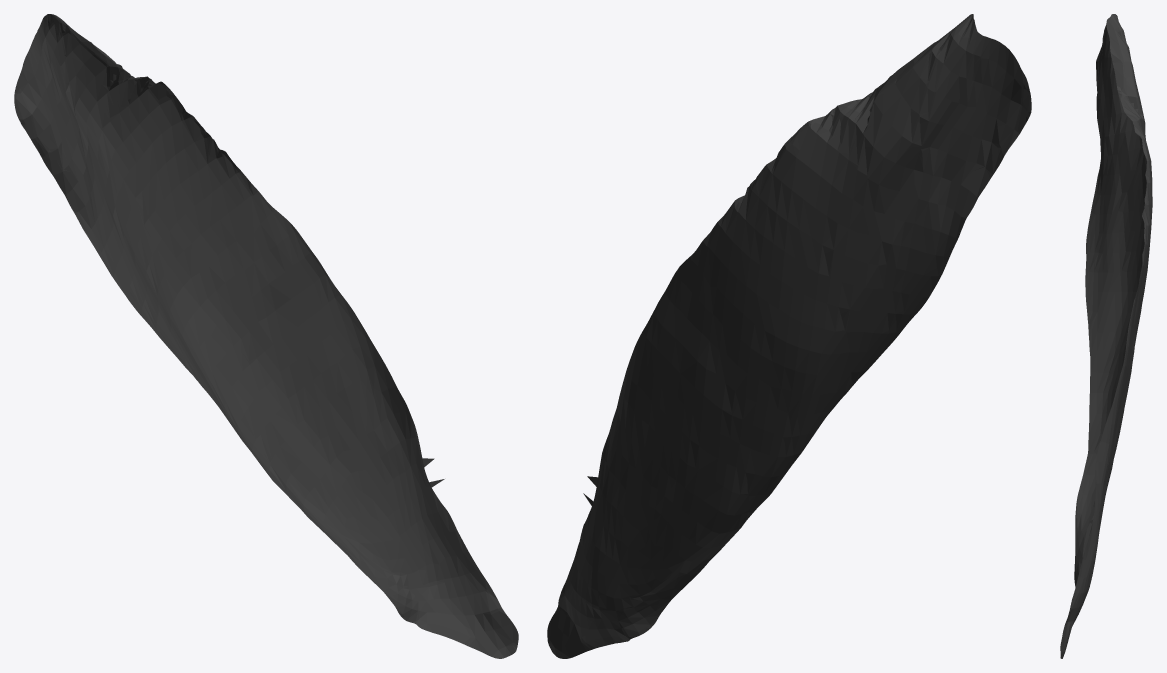
The model's file is Triceps_medial.glb.
The picture shows the model from 3 angles, left to right: view 1: azimuth 30°, elevation 25°; view 2: azimuth 150°, elevation 25°; view 3: azimuth 270°, elevation 25°; orthographic projection. The views are drawn at different scales.
Parts seen in each view (by area): view 1: Triceps_medial; view 2: Triceps_medial; view 3: Triceps_medial.
Part boxes in pixels (x1,y1,x2,y2): Triceps_medial: (14, 14, 518, 658); Triceps_medial: (547, 14, 1031, 658); Triceps_medial: (1060, 14, 1152, 658).
Size of the model in its own units: 0.1046 by 0.1515 by 0.0252.
1 material, 1 textured.
